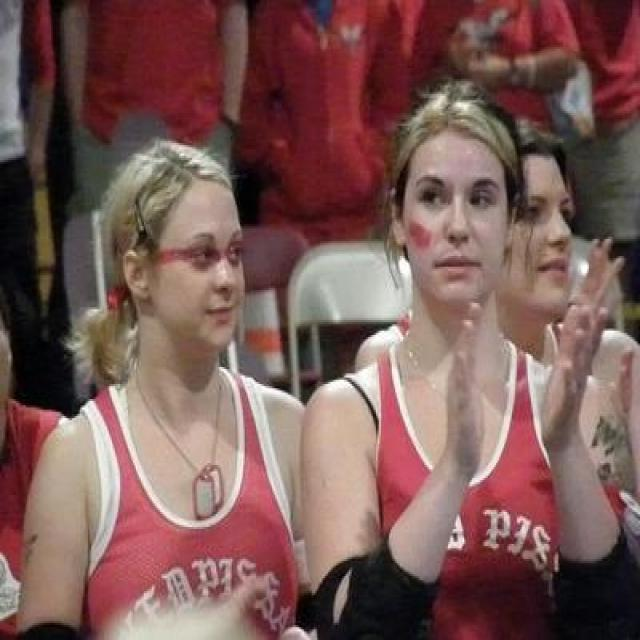no_vest: (293, 335, 634, 640), (17, 362, 306, 640)
